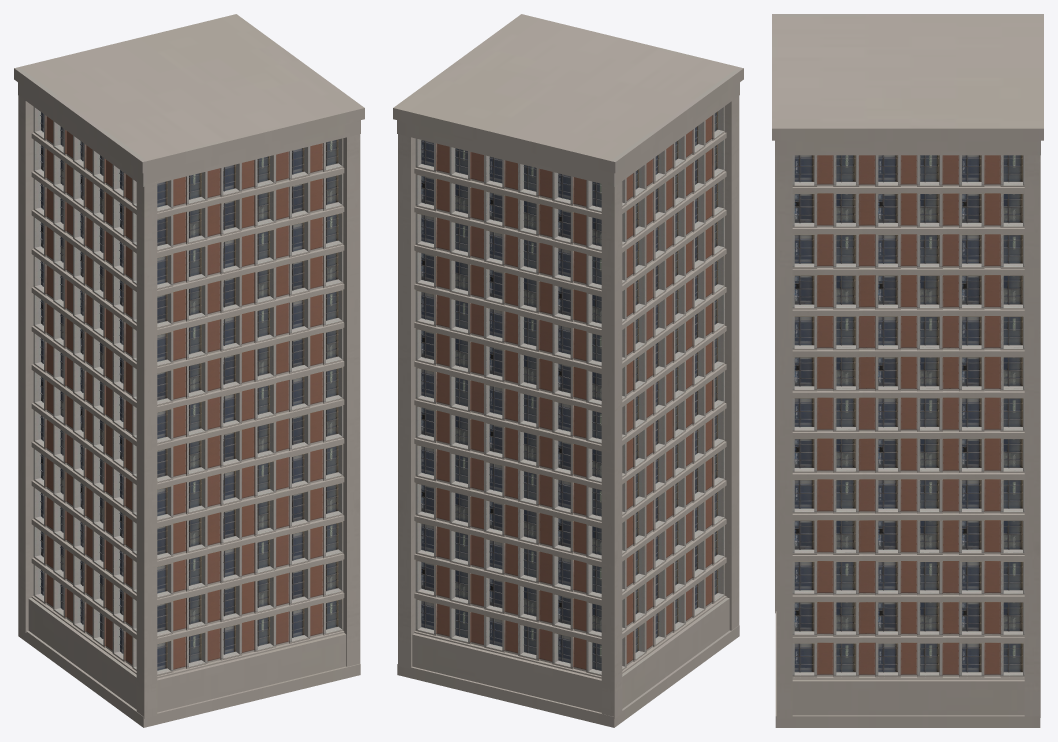
The model's file is building_01.glb.
The picture shows the model from 3 angles, left to right: view 1: azimuth 30°, elevation 25°; view 2: azimuth 150°, elevation 25°; view 3: azimuth 270°, elevation 25°; orthographic projection. The views are drawn at different scales.
Parts seen in each view (by area): view 1: Object_4, Object_13; view 2: Object_4, Object_13; view 3: Object_4, Object_13.
Boxes of the visible parts, <box> form: Object_4: <box>14,14,364,727</box>; Object_13: <box>41,112,338,670</box>; Object_4: <box>393,14,743,727</box>; Object_13: <box>421,111,717,670</box>; Object_4: <box>772,14,1043,727</box>; Object_13: <box>794,155,1022,672</box>.
Size of the model in its own units: 3.25 by 7.92 by 3.25.
2 materials, 2 textured.
